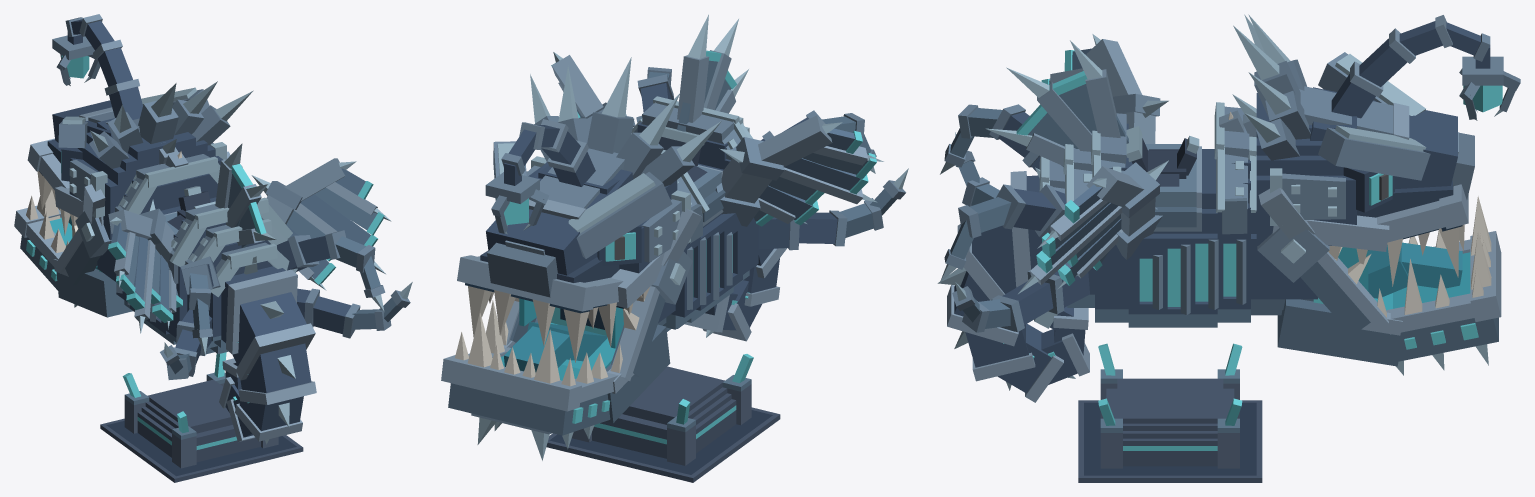
File: SeahorseRocker10.glb
The picture shows the model from 3 angles, left to right: view 1: azimuth 30°, elevation 25°; view 2: azimuth 150°, elevation 25°; view 3: azimuth 270°, elevation 25°; orthographic projection. The views are drawn at different scales.
Parts seen in each view (by area): view 1: Head, Body, Stand, Jaw, WingR, WingL, Lure, T2, T3, T1, Fan, T4 (+14 smaller); view 2: Head, Jaw, Stand, Body, WingL, Lure, Fan, LoL1, LoL2, Head_Glow, WingR, Stand_Glow (+9 smaller); view 3: Head, Body, Jaw, Stand, WingR, Lure, Fan, WingL, Body_Glow, T2, LoR1, UpR1 (+17 smaller).
Part boxes in pixels (<box>): Head: <box>27,81,253,281</box>; Body: <box>115,139,297,355</box>; Stand: <box>100,372,303,482</box>; Jaw: <box>14,189,132,317</box>; WingR: <box>251,158,391,290</box>; WingL: <box>108,199,178,333</box>; Lure: <box>52,14,142,119</box>; T2: <box>232,292,315,380</box>; T3: <box>238,343,316,404</box>; T1: <box>221,256,297,354</box>; Fan: <box>215,143,276,247</box>; T4: <box>235,396,303,441</box>; Head: <box>457,57,721,362</box>; Jaw: <box>441,251,692,460</box>; Stand: <box>546,366,780,482</box>; Body: <box>631,96,758,331</box>; WingL: <box>715,115,883,226</box>; Lure: <box>485,119,595,234</box>; Fan: <box>677,14,748,131</box>; LoL1: <box>758,210,847,250</box>; LoL2: <box>837,168,908,237</box>; Head_Glow: <box>519,232,635,348</box>; WingR: <box>551,52,606,130</box>; Stand_Glow: <box>594,354,753,444</box>; Head: <box>1233,14,1474,315</box>; Body: <box>1039,94,1256,327</box>; Jaw: <box>1257,196,1501,375</box>; Stand: <box>1078,369,1262,482</box>; WingR: <box>1017,160,1168,294</box>; Lure: <box>1331,15,1520,120</box>; Fan: <box>985,40,1128,166</box>; WingL: <box>1049,34,1168,143</box>; Body_Glow: <box>1139,243,1236,306</box>; T2: <box>957,224,1016,300</box>; LoR1: <box>991,270,1089,332</box>; UpR1: <box>996,184,1066,237</box>.
Bounding box in the file's own units: 27.98 × 33.61 × 41.86.
